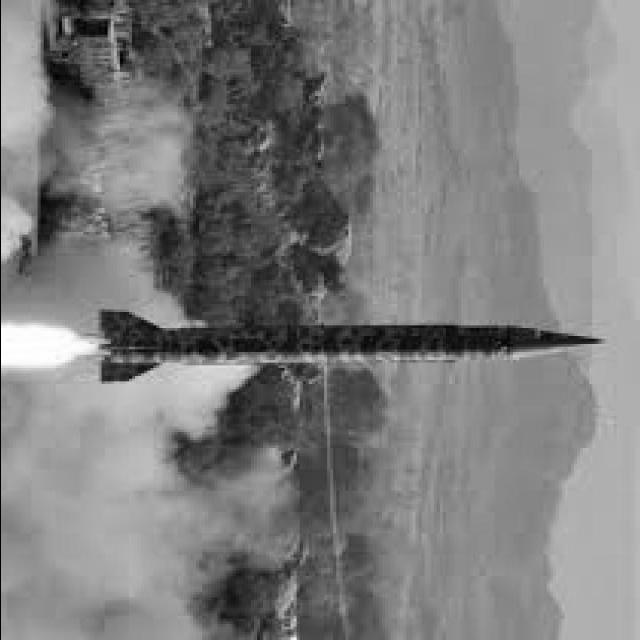missile: (83, 304, 604, 390)
